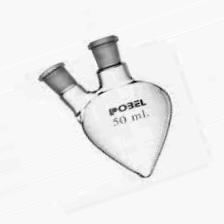Pear shaped flask: (18, 29, 173, 175)
